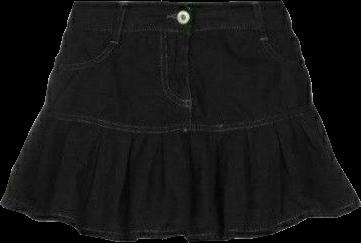Hemline: (0, 202, 360, 242)
Waistline: (42, 103, 313, 133), (67, 25, 290, 31), (74, 0, 279, 4)
